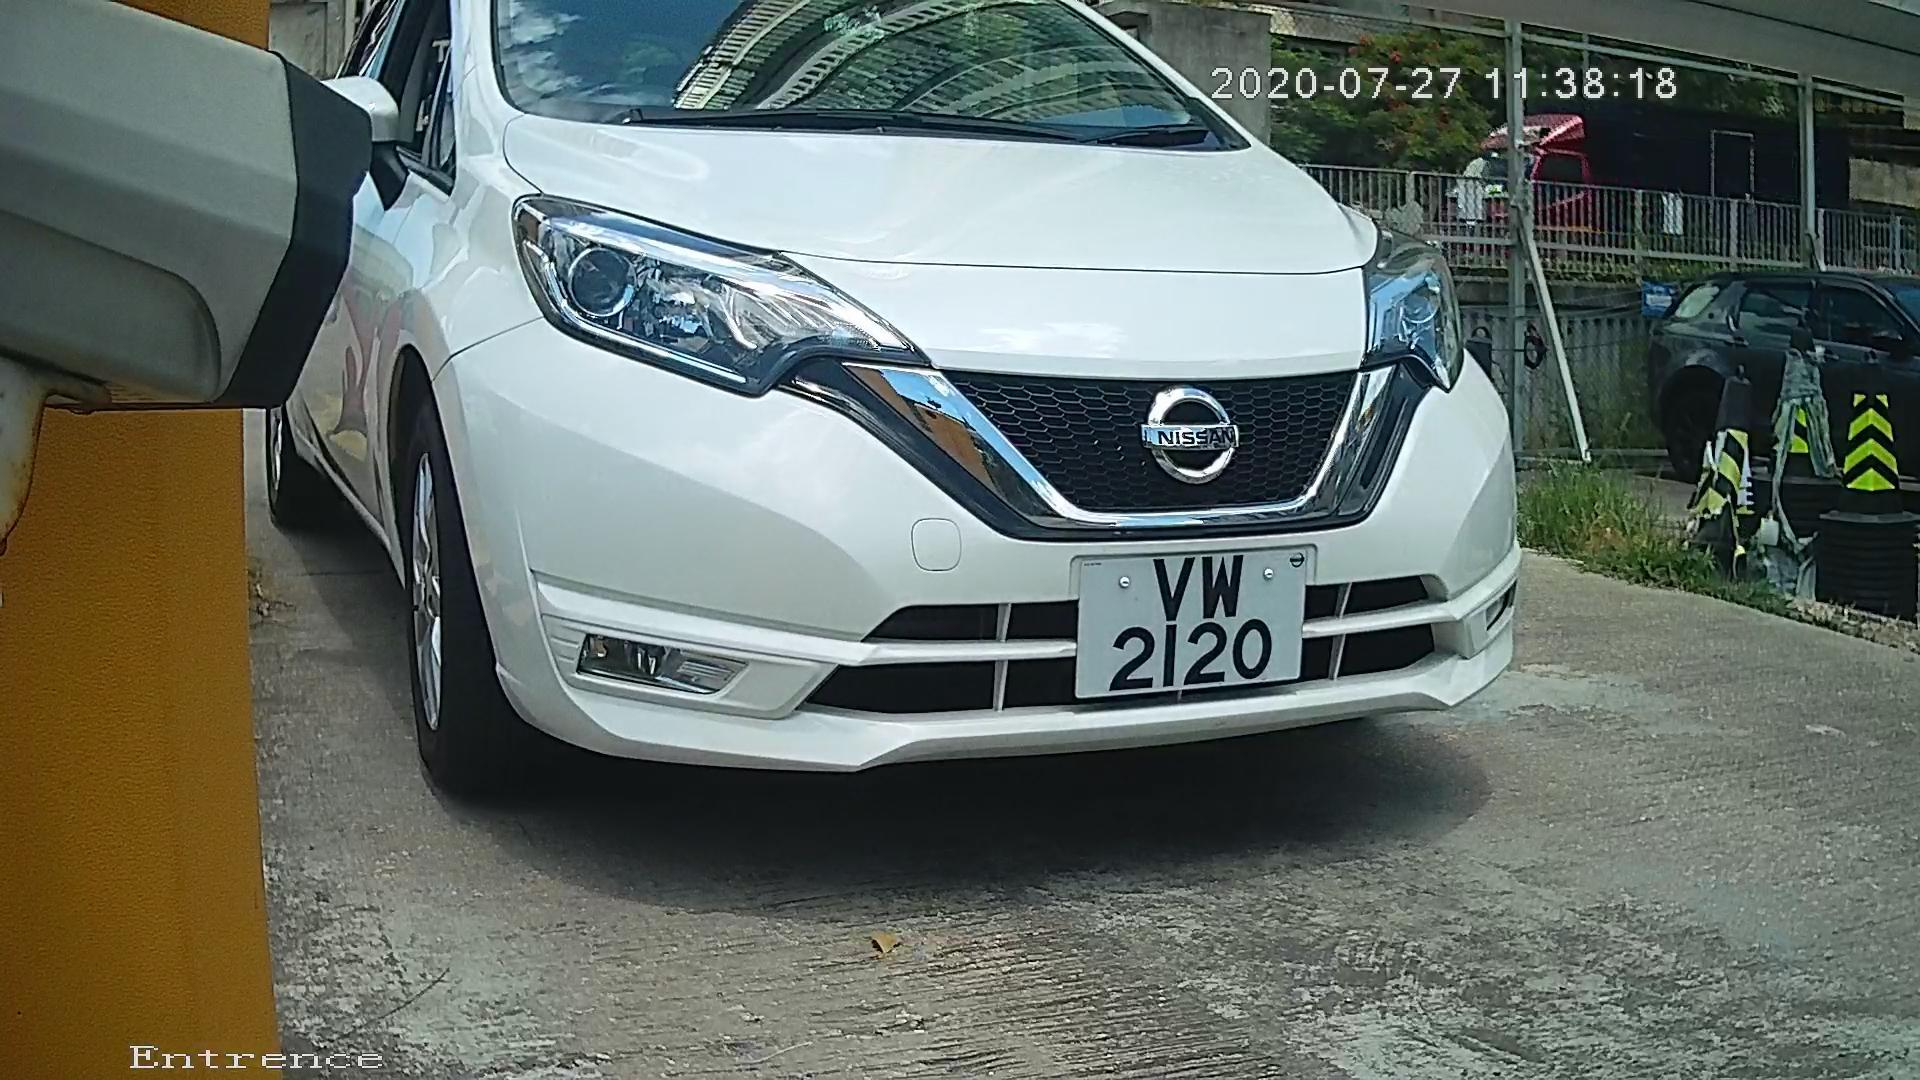License Plate: (1055, 541, 1321, 704)
